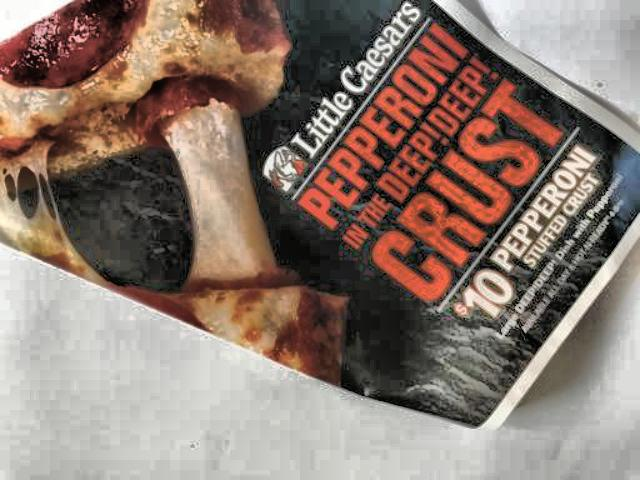Paper: (0, 0, 640, 449)
